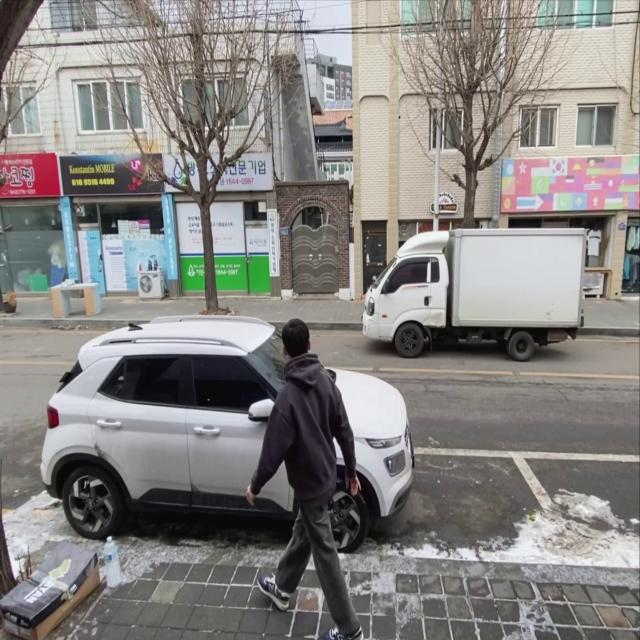bare_hand: (243, 485, 261, 509), (348, 476, 362, 498)
